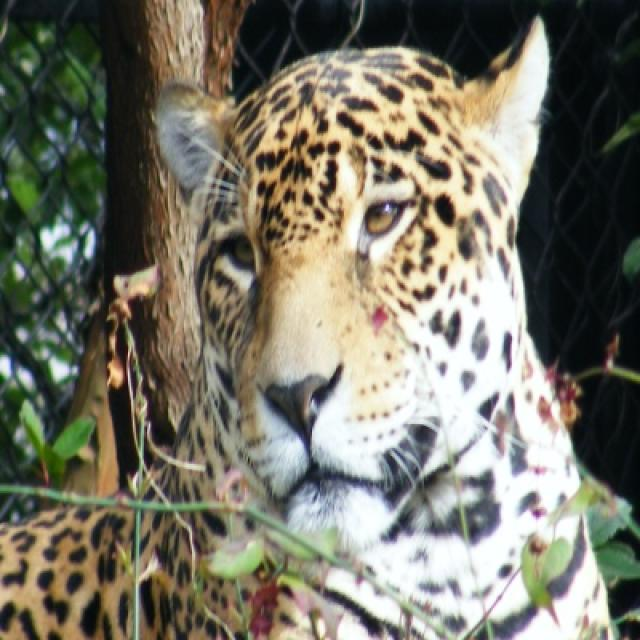Jaguar: (2, 18, 631, 638)
